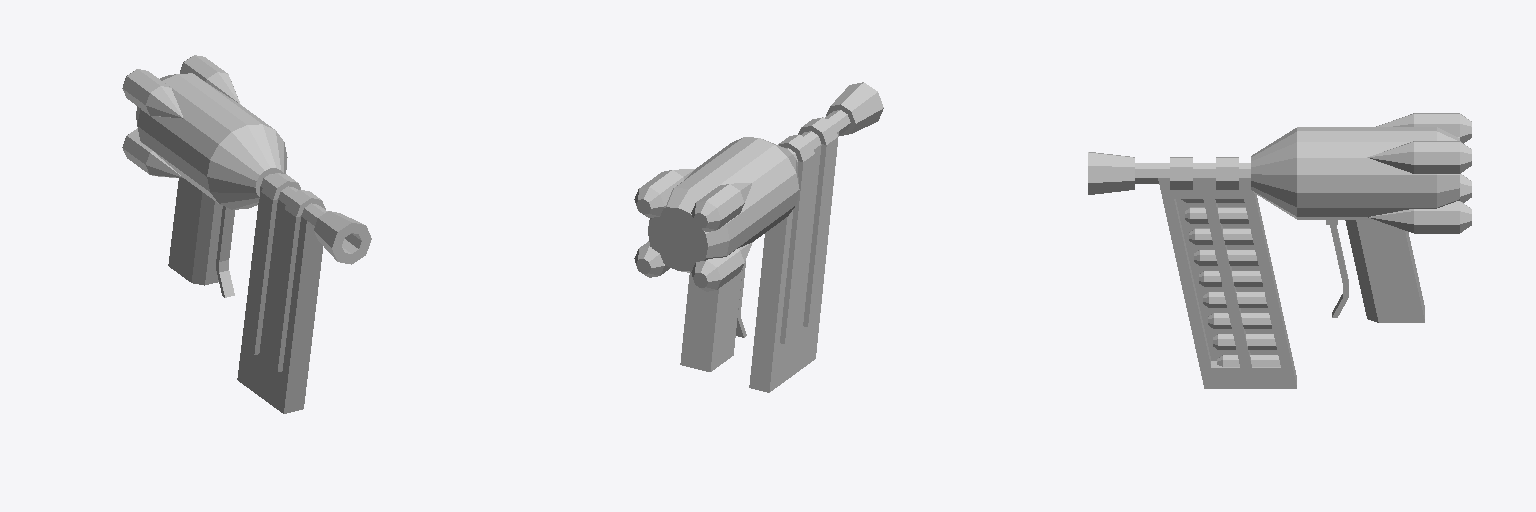
File: boltgun.obj
3 renders of one model, left to right at view 1: azimuth 30°, elevation 25°; view 2: azimuth 150°, elevation 25°; view 3: azimuth 270°, elevation 25°, orthographic.
Parts seen in each view (by area): view 1: Gun, Barrel; view 2: Gun, Barrel; view 3: Gun, Barrel.
Part boxes in pixels (x1,y1,x2,y2): Gun: (122, 55, 325, 413); Barrel: (260, 174, 371, 264); Gun: (634, 117, 838, 392); Barrel: (786, 82, 883, 161); Gun: (1158, 113, 1471, 388); Barrel: (1088, 152, 1250, 194).
Bounding box in the file's own units: 2.16 × 6.08 × 8.25.